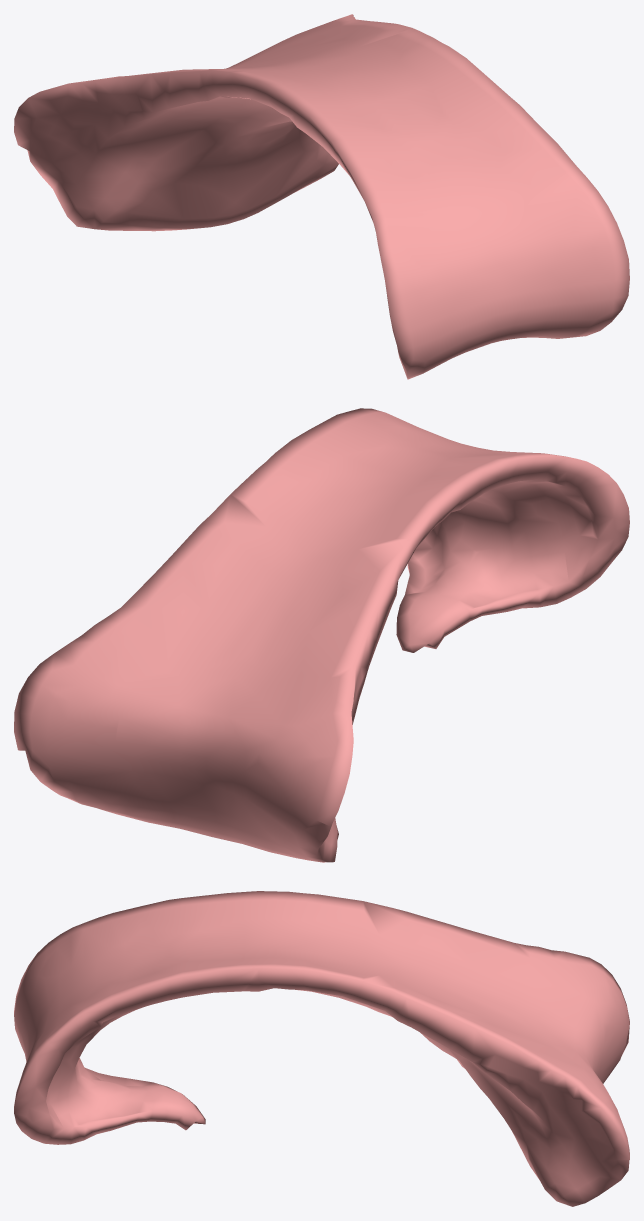
Rendered from nervoso-corpus-callosum.glb.
3 views of the same model, one above another, from view 1: azimuth 30°, elevation 25°; view 2: azimuth 150°, elevation 25°; view 3: azimuth 270°, elevation 25° (orthographic). The views are drawn at different scales.
Visible parts, largest first — view 1: Corpus callosum; view 2: Corpus callosum; view 3: Corpus callosum.
Part boxes in pixels (x1,y1,x2,y2): Corpus callosum: (14,14,629,379); Corpus callosum: (14,408,629,862); Corpus callosum: (14,891,629,1206).
Size of the model in its own units: 0.05 by 0.0377 by 0.0888.
